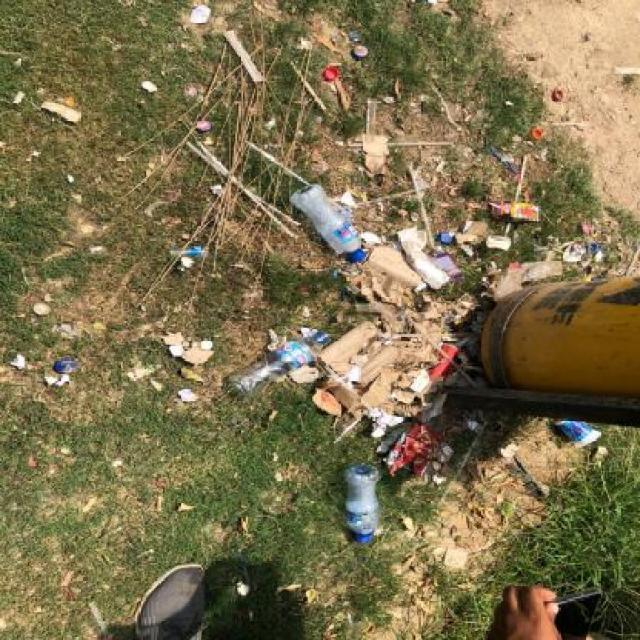garbage: (155, 241, 487, 456), (482, 189, 630, 270), (334, 455, 420, 558), (291, 182, 382, 274), (14, 85, 108, 144), (306, 31, 391, 84), (536, 417, 617, 452), (45, 352, 108, 396)
